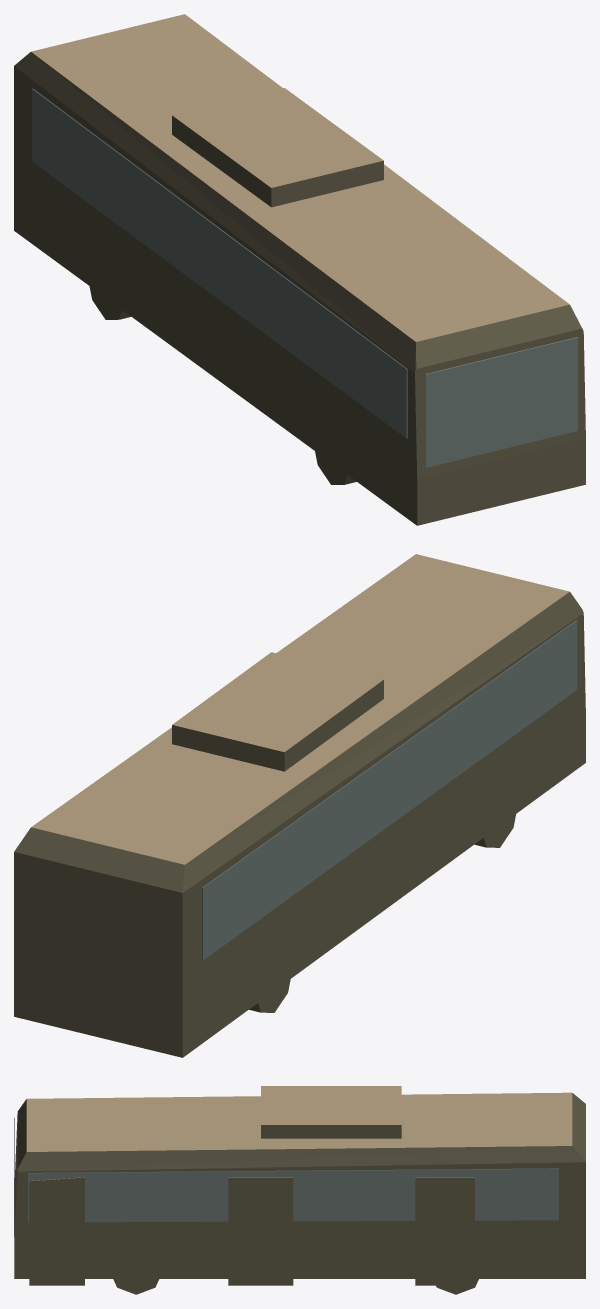
File: SM_Autobus_v3_Accidentado_LOD1.fbx
3 renders of one model, top to bottom at view 1: azimuth 30°, elevation 25°; view 2: azimuth 150°, elevation 25°; view 3: azimuth 270°, elevation 25°, orthographic. The views are drawn at different scales.
Visible parts, largest first — view 1: SM_autobus_v3_LOD1; view 2: SM_autobus_v3_LOD1; view 3: SM_autobus_v3_LOD1.
Part boxes in pixels (<box>): SM_autobus_v3_LOD1: <box>14,14,585,525</box>; SM_autobus_v3_LOD1: <box>14,554,585,1057</box>; SM_autobus_v3_LOD1: <box>14,1086,585,1294</box>.
Bounding box in the file's own units: 2.59 × 3.26 × 10.56.
